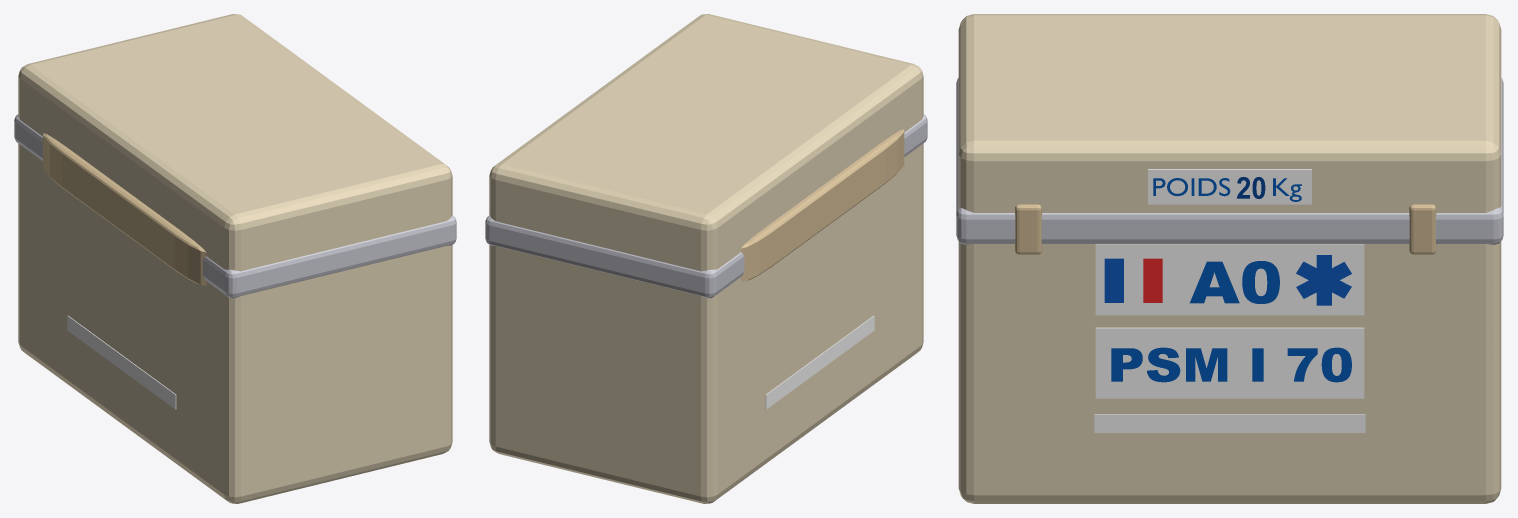
File: MalleA0.fbx
3 renders of one model, left to right at view 1: azimuth 30°, elevation 25°; view 2: azimuth 150°, elevation 25°; view 3: azimuth 270°, elevation 25°, orthographic. The views are drawn at different scales.
Parts seen in each view (by area): view 1: Malle_PSM, Anneau, Loquet.002, Bande_Rouge; view 2: Malle_PSM, Anneau, Loquet.002, Bande_Rouge; view 3: Malle_PSM, Anneau, Etiquette_PSM, Etiquette_A3.001, Bande_Rouge, Etiquette_A3, Texte_PSM, Drabeau Blanc, Texte_A3, Samu, Loquet, Loquet.001 (+1 smaller).
Part boxes in pixels (box(x1,y1,x2,y2)): Malle_PSM: box(18, 14, 452, 503); Anneau: box(14, 114, 456, 298); Loquet.002: box(43, 133, 206, 285); Bande_Rouge: box(67, 315, 176, 409); Malle_PSM: box(489, 14, 923, 503); Anneau: box(485, 114, 927, 298); Loquet.002: box(741, 129, 904, 281); Bande_Rouge: box(765, 315, 874, 409); Malle_PSM: box(958, 14, 1501, 503); Anneau: box(956, 78, 1503, 244); Etiquette_PSM: box(1095, 327, 1364, 398); Etiquette_A3.001: box(1095, 244, 1364, 315); Bande_Rouge: box(1094, 414, 1365, 432); Etiquette_A3: box(1148, 169, 1311, 204); Texte_PSM: box(1111, 347, 1351, 382); Drabeau Blanc: box(1104, 258, 1162, 302); Texte_A3: box(1190, 261, 1279, 303); Samu: box(1296, 255, 1351, 305); Loquet: box(1409, 204, 1436, 254); Loquet.001: box(1015, 204, 1041, 254).
Bounding box in the file's own units: 33.45 × 39 × 53.5.
